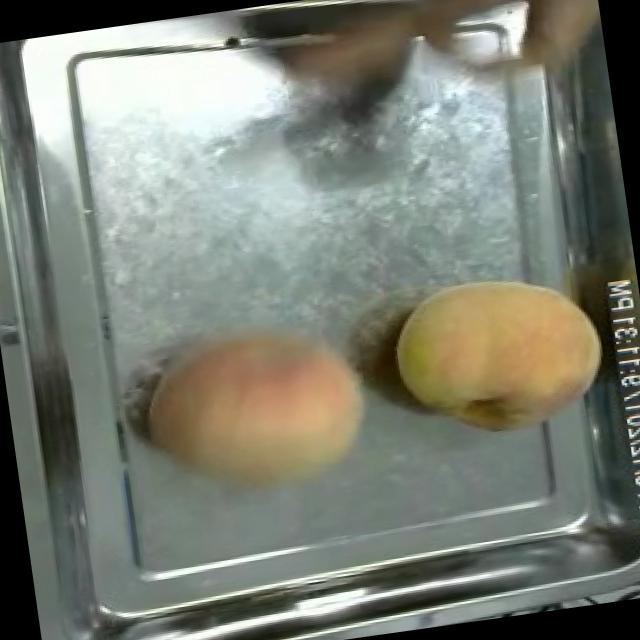Fruit: (130, 304, 390, 516), (380, 253, 620, 454)
